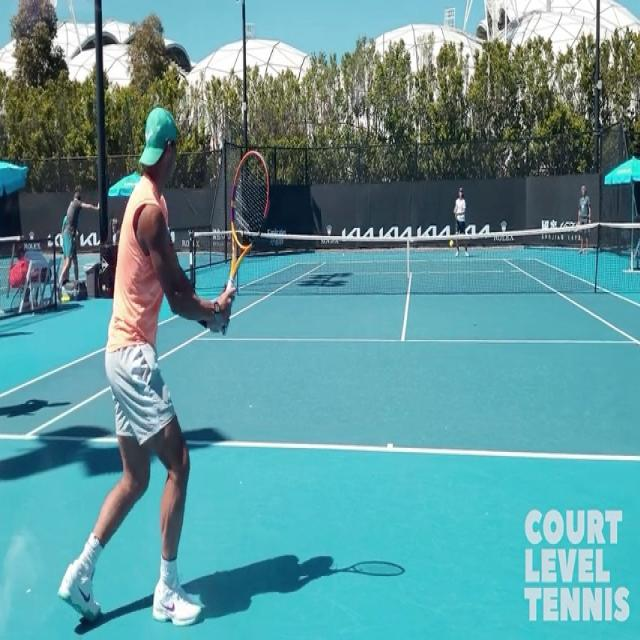backhand-ready: (54, 77, 268, 636)
